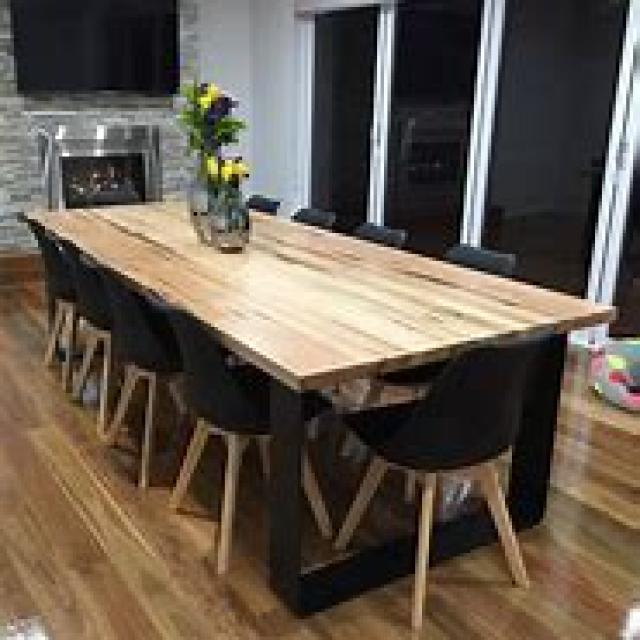table: (17, 191, 616, 616)
